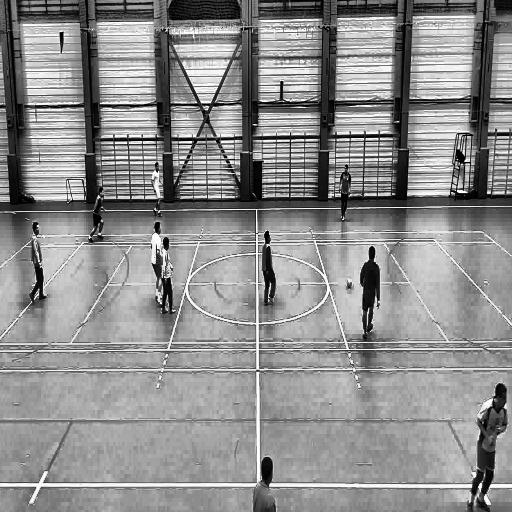ball: (345, 277, 353, 290)
player: (468, 380, 508, 512), (360, 246, 381, 342), (249, 452, 279, 512), (28, 220, 48, 308), (261, 229, 279, 307), (149, 220, 164, 310), (160, 236, 176, 317), (88, 187, 108, 244), (337, 162, 352, 223), (150, 161, 164, 220)
